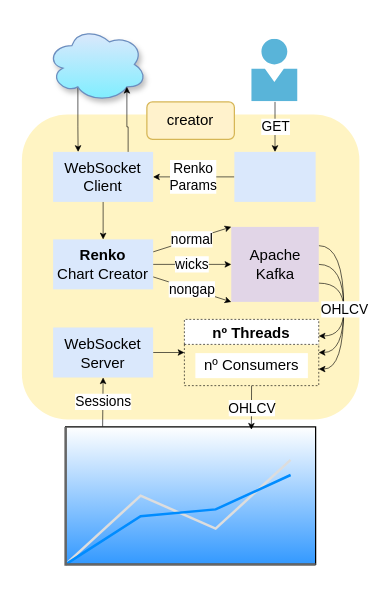
Image size: 389x613. Some labels were removed from this diagram. Each missing label, with the centre of its shape:
"Renko Chart Client" goes at (x=190, y=495).
"REST Initializer" goes at (x=274, y=176).
"simulator" goes at (x=97, y=66).
